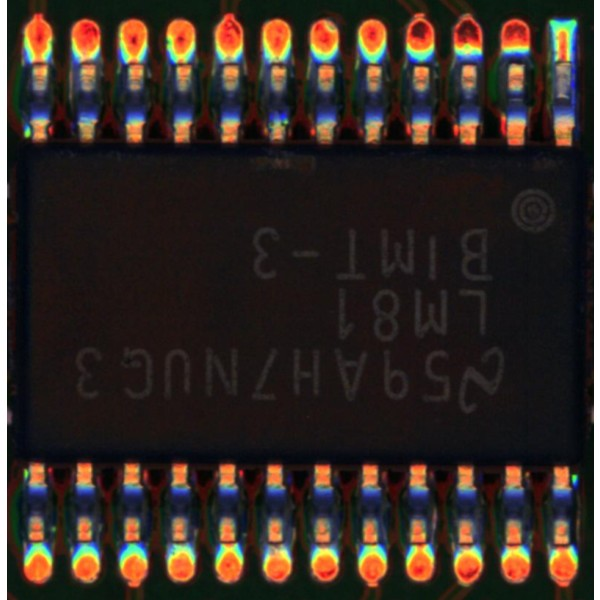Bad_podu: (30, 51, 46, 79), (557, 46, 570, 71), (412, 535, 425, 555), (555, 537, 569, 555)
